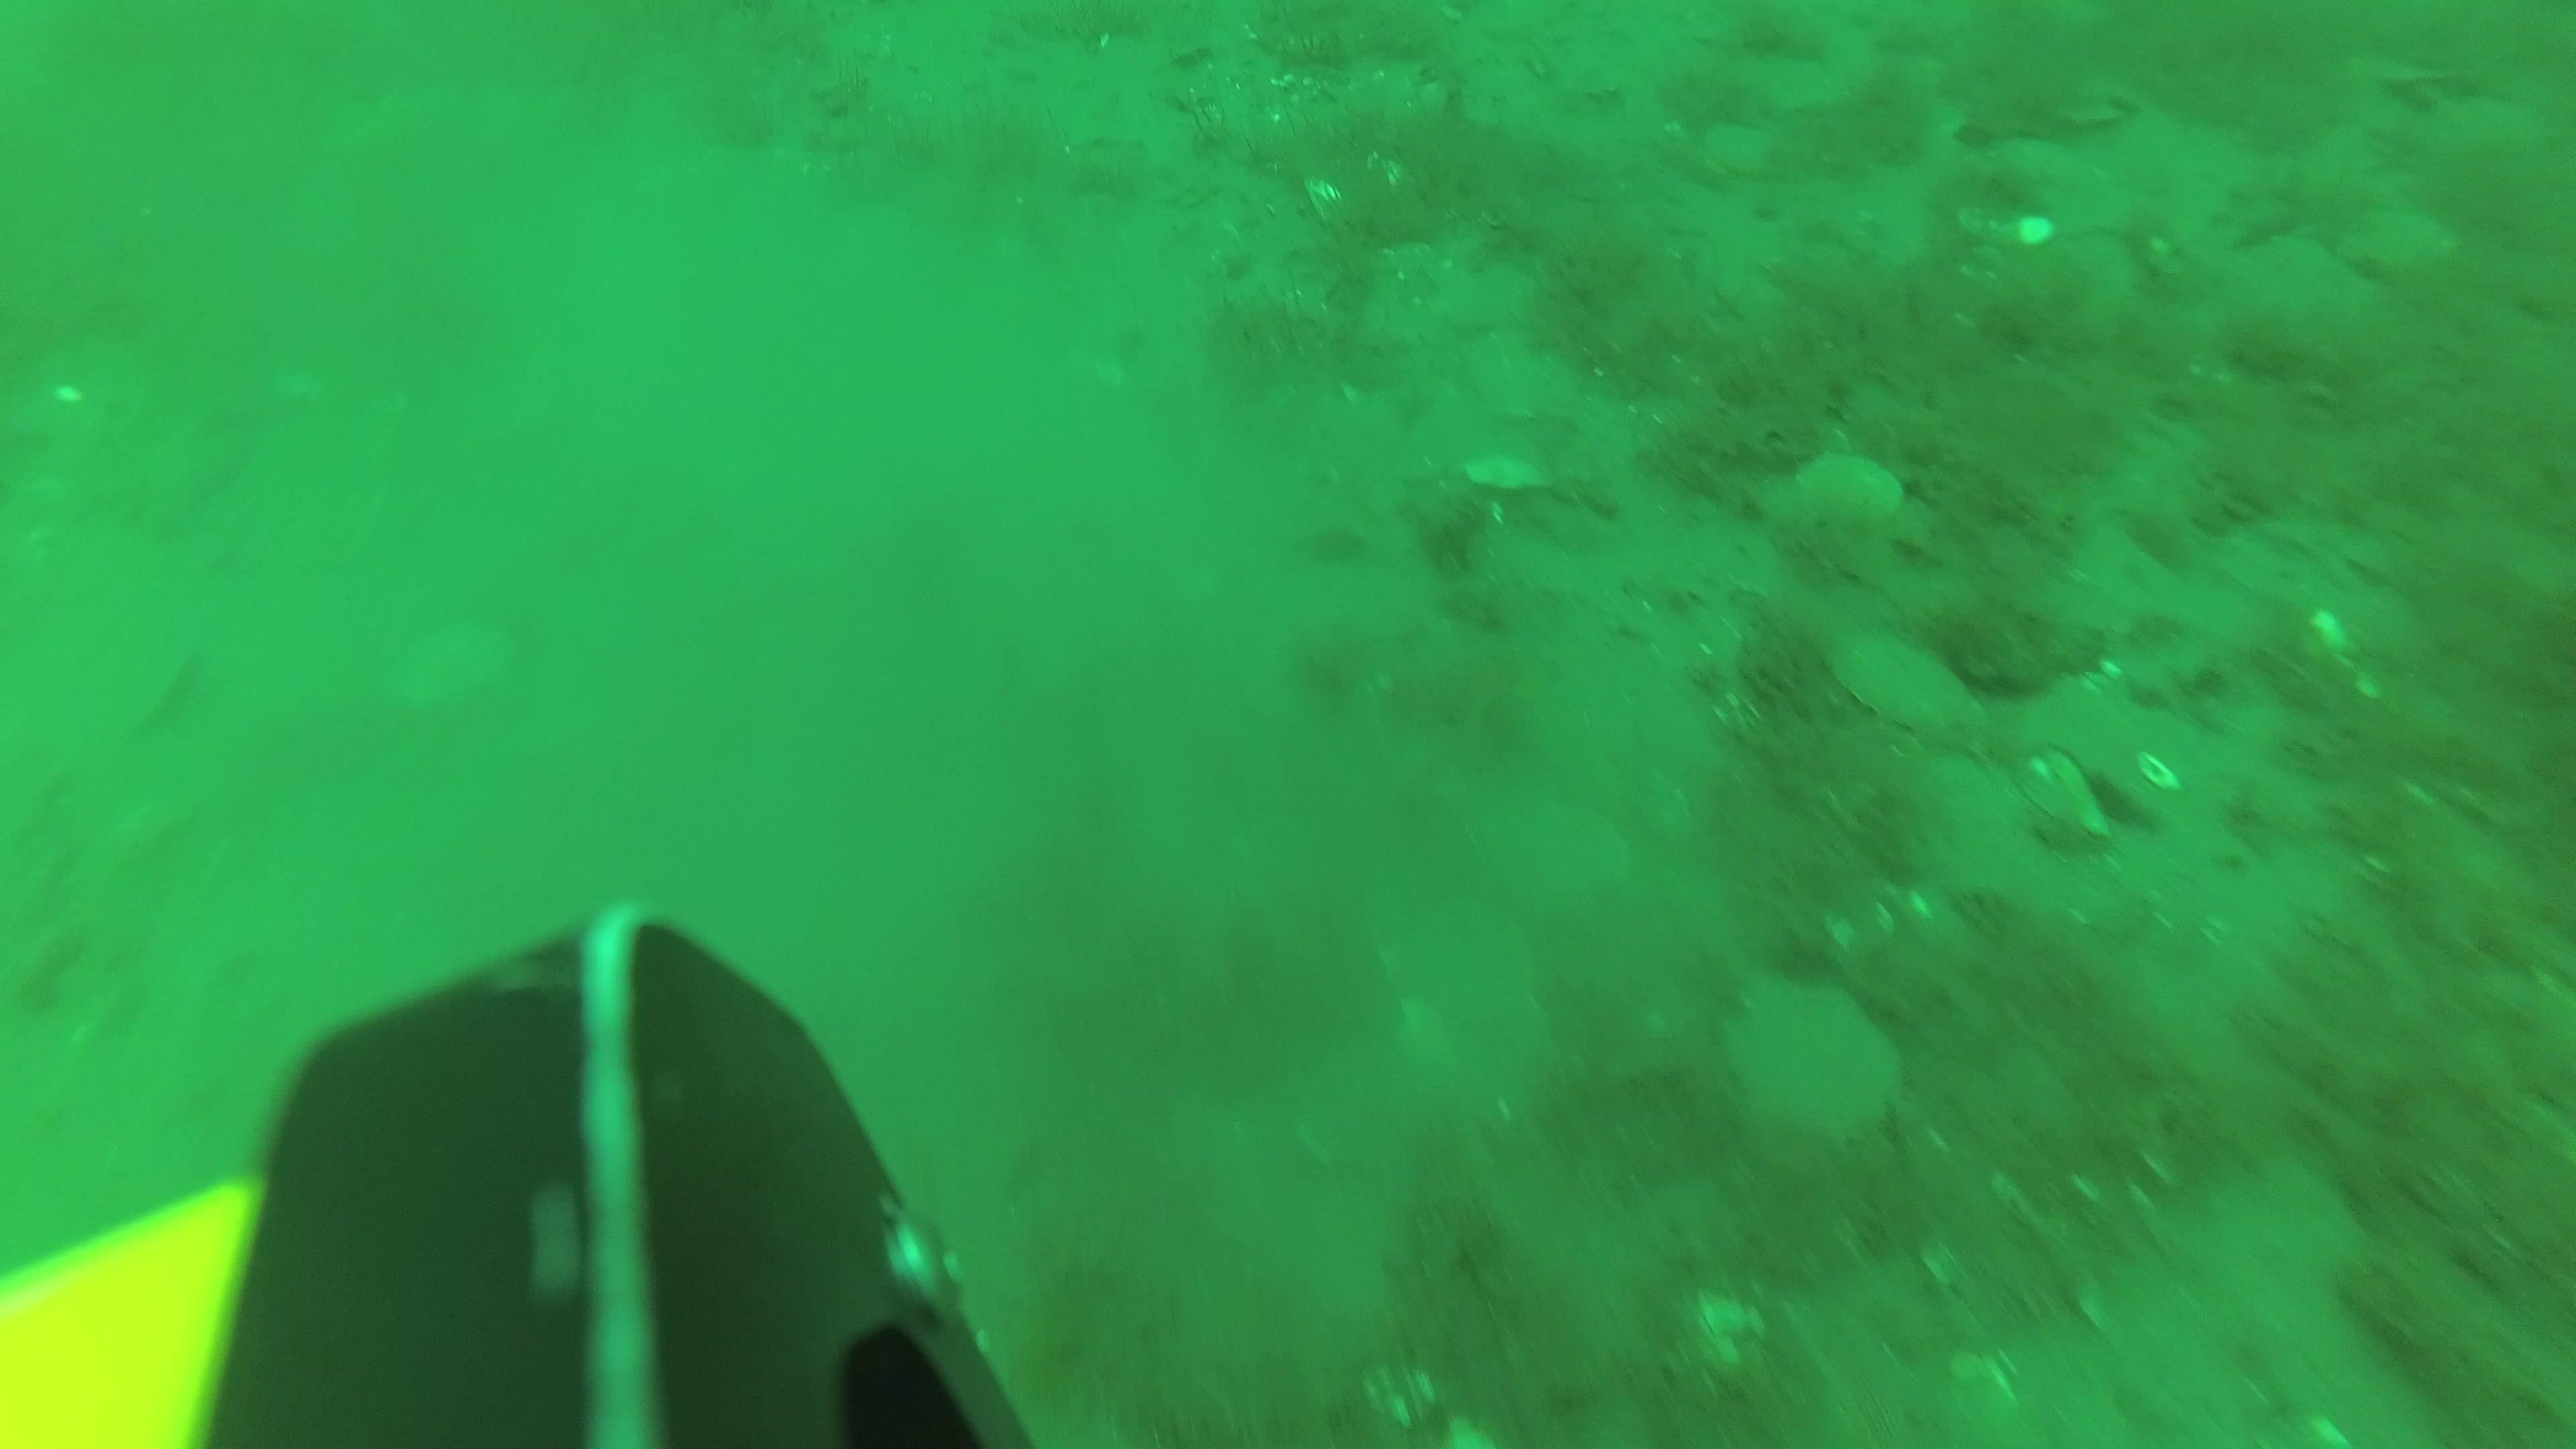scallop: (1718, 973, 1913, 1136), (1886, 748, 2054, 911), (1815, 614, 1996, 741), (1792, 442, 1913, 525), (2020, 747, 2109, 853), (2020, 575, 2148, 640), (2312, 524, 2401, 593), (1693, 117, 1789, 180)
